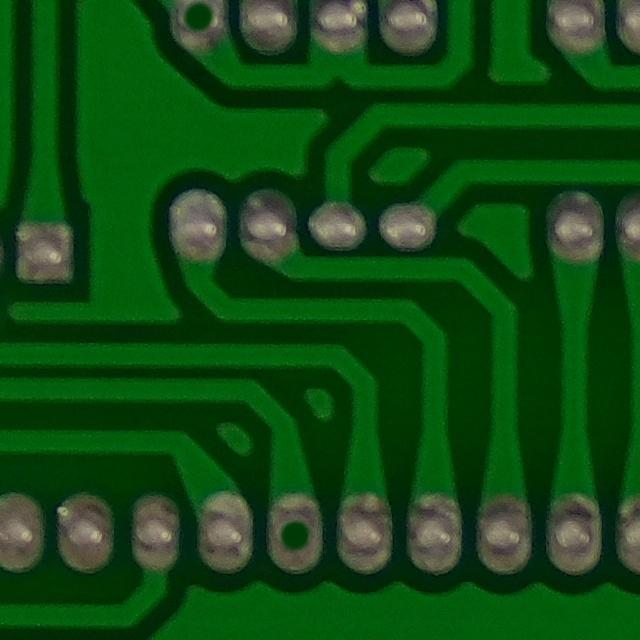missing_hole: (252, 487, 331, 587), (152, 0, 237, 58)
